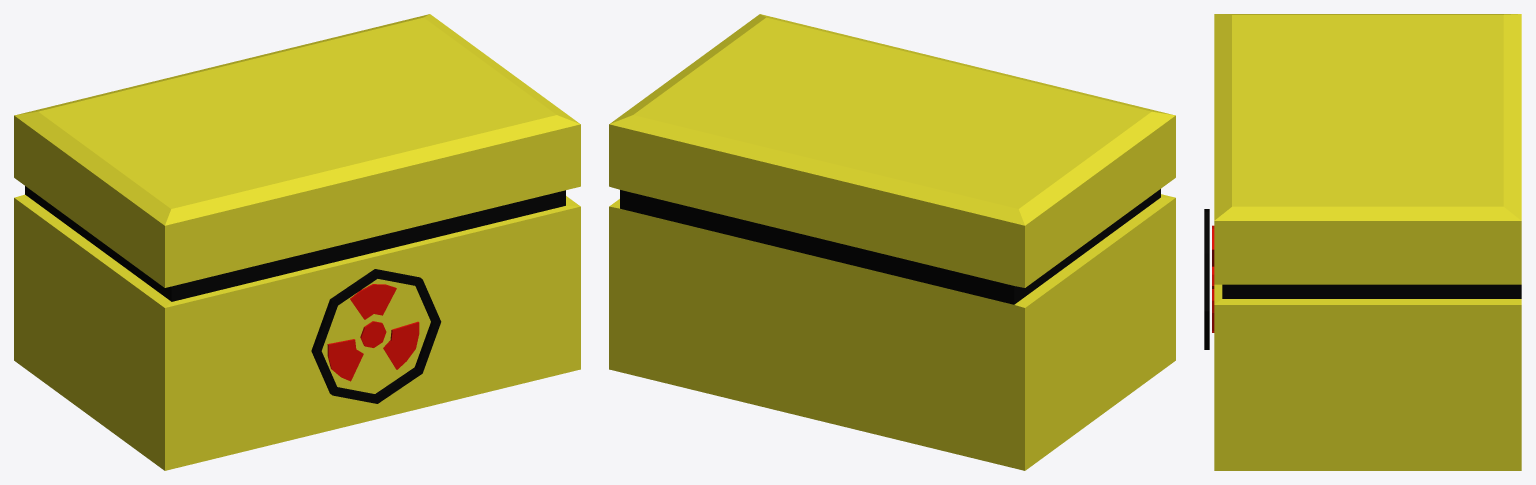
The model's file is nuklir.fbx.
The picture shows the model from 3 angles, left to right: view 1: azimuth 30°, elevation 25°; view 2: azimuth 150°, elevation 25°; view 3: azimuth 270°, elevation 25°; orthographic projection.
Parts seen in each view (by area): view 1: Cube.003, Circle.002, Circle.005; view 2: Cube.003; view 3: Cube.003, Circle.002.
Part boxes in pixels (bbox=[...]): Cube.003: bbox=[14, 14, 580, 470]; Circle.002: bbox=[311, 269, 441, 403]; Circle.005: bbox=[327, 284, 419, 381]; Cube.003: bbox=[609, 14, 1175, 470]; Cube.003: bbox=[1214, 14, 1521, 470]; Circle.002: bbox=[1204, 209, 1209, 349].
Size of the model in its own units: 78.48 by 46.99 by 50.82.
